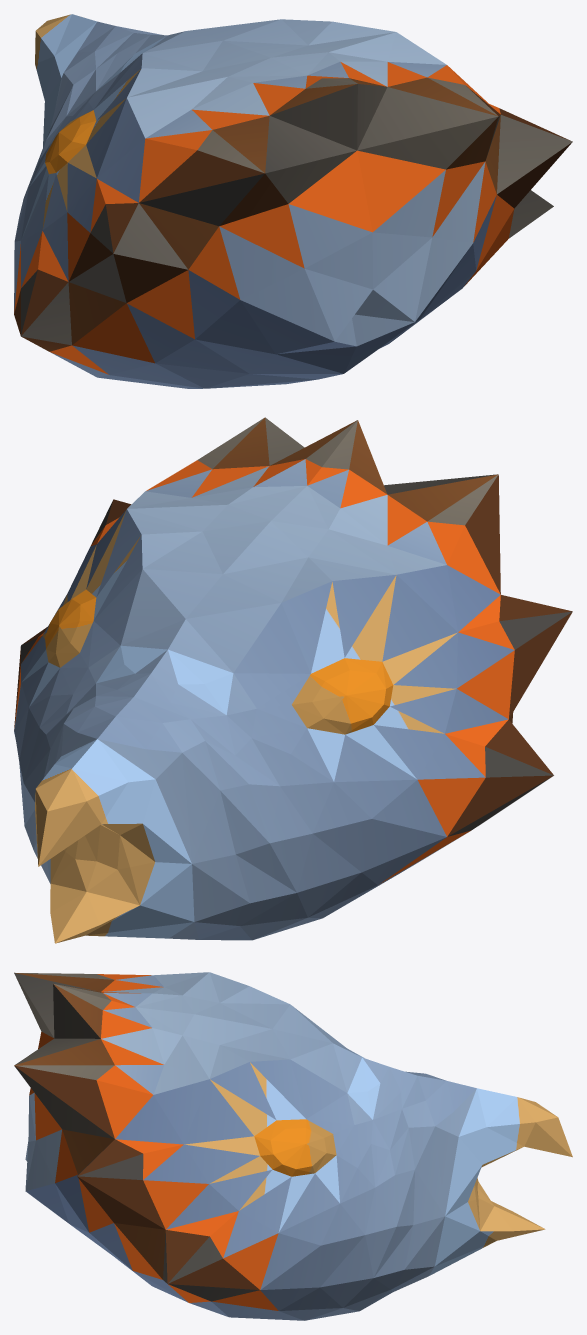
Rendered from Hook_Bird.fbx.
3 views of the same model, one above another, from view 1: azimuth 30°, elevation 25°; view 2: azimuth 150°, elevation 25°; view 3: azimuth 270°, elevation 25° (orthographic). The views are drawn at different scales.
Parts seen in each view (by area): view 1: Hook_Bird1; view 2: Hook_Bird1; view 3: Hook_Bird1.
Boxes of the visible parts, left/top/right/bottom form: Hook_Bird1: left=14, top=14, right=572, bottom=388; Hook_Bird1: left=14, top=417, right=572, bottom=943; Hook_Bird1: left=14, top=972, right=572, bottom=1320.
Size of the model in its own units: 1.35 by 0.9129 by 1.51.
